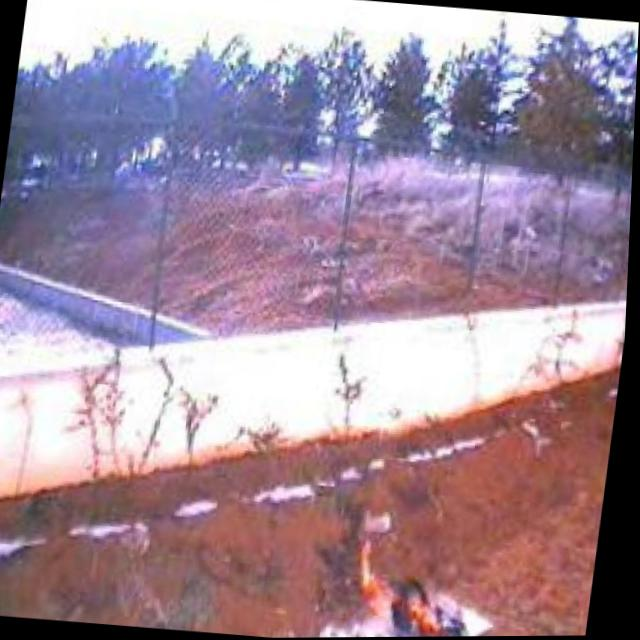Fire: (354, 538, 470, 638)
